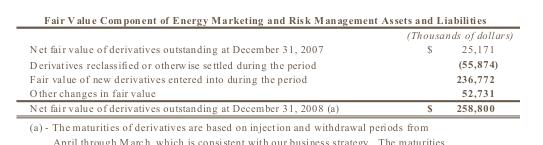table: (28, 28, 512, 113)
table column: (28, 28, 371, 113), (371, 28, 512, 113)
table column header: (28, 28, 512, 41)
table row: (28, 41, 512, 56), (28, 56, 512, 71), (28, 71, 512, 85), (28, 85, 512, 99), (28, 99, 512, 113), (28, 28, 512, 41)
